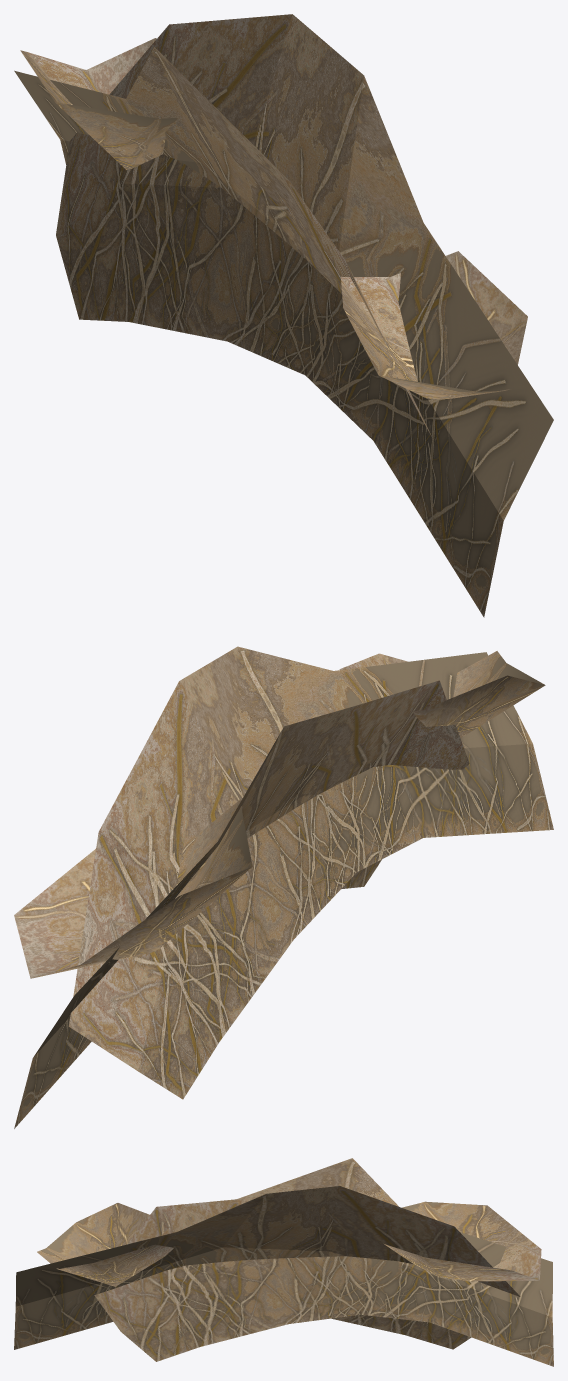
Rendered from SM_HayPile_C.fbx.
The picture shows the model from 3 angles, top to bottom: view 1: azimuth 30°, elevation 25°; view 2: azimuth 150°, elevation 25°; view 3: azimuth 270°, elevation 25°; orthographic projection. The views are drawn at different scales.
Parts seen in each view (by area): view 1: SM_HayPile_C_LOD0; view 2: SM_HayPile_C_LOD0; view 3: SM_HayPile_C_LOD0.
Boxes of the visible parts, x1,y1,x2,y2 form: SM_HayPile_C_LOD0: [14, 14, 553, 617]; SM_HayPile_C_LOD0: [14, 646, 553, 1128]; SM_HayPile_C_LOD0: [14, 1158, 553, 1366].
Size of the model in its own units: 16.36 by 78.02 by 30.78.
Materials: 1 (1 with a texture image).
